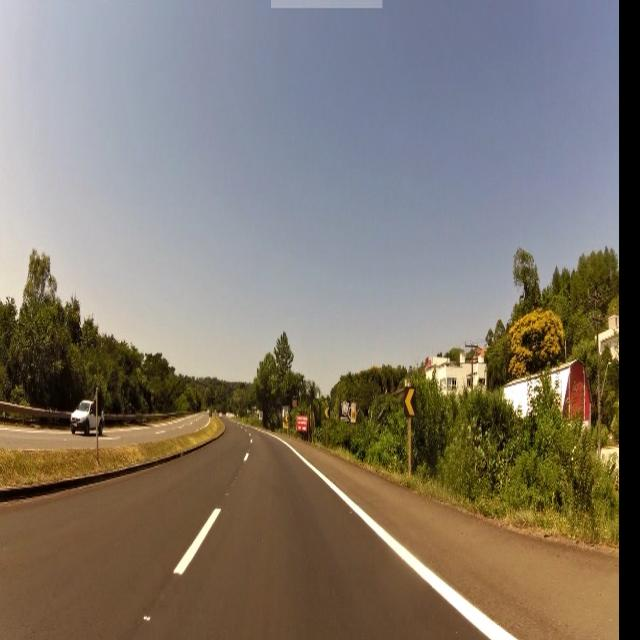Del: (404, 387, 416, 418)
